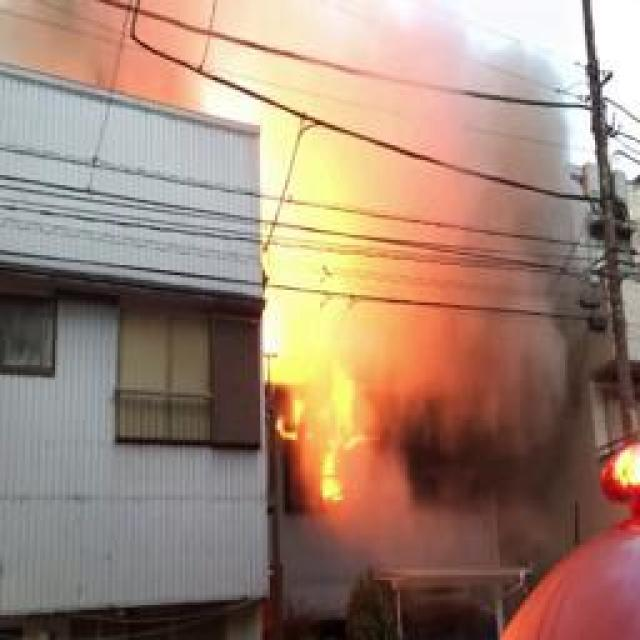Fire: (185, 0, 580, 520)
